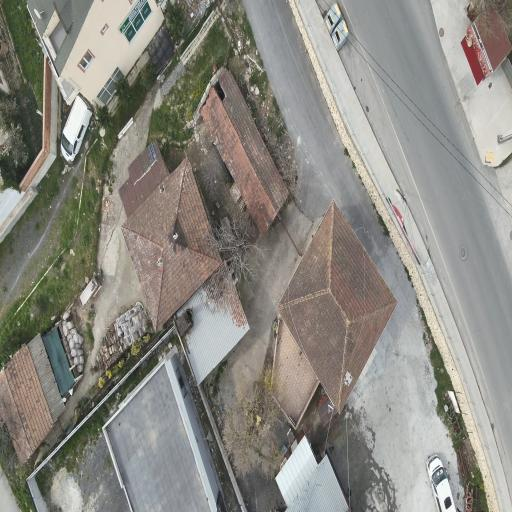car: (61, 96, 91, 162), (427, 455, 455, 511)
